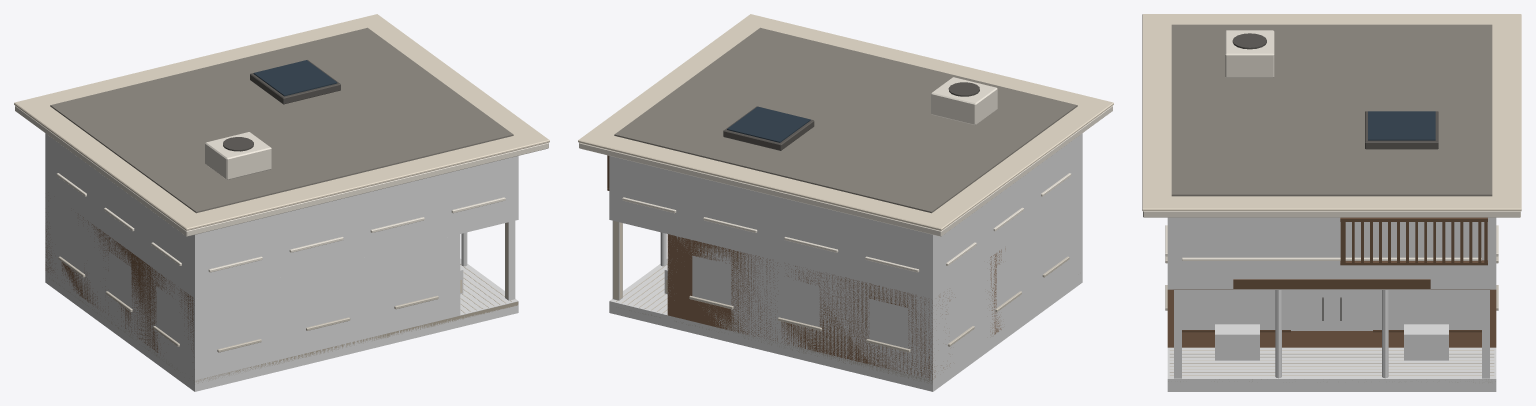
3 views of the same model, side by side, from view 1: azimuth 30°, elevation 25°; view 2: azimuth 150°, elevation 25°; view 3: azimuth 270°, elevation 25° (orthographic). The views are drawn at different scales.
Visible parts, largest first — view 1: T03_body, col_ground, col_upper, col_floor, col_post_-4; view 2: T03_body, col_ground, col_upper, col_floor; view 3: T03_body, col_upper, col_floor, col_ground, col_planter_+2, col_planter_-2, col_post_+4, col_post_-4, col_steel_+1, col_steel_-1.
Boxes of the visible parts, bbox=[...] form: T03_body: bbox=[14, 14, 549, 383]; col_ground: bbox=[45, 189, 460, 379]; col_upper: bbox=[45, 133, 518, 298]; col_floor: bbox=[45, 258, 518, 391]; col_post_-4: bbox=[505, 220, 515, 300]; T03_body: bbox=[578, 14, 1113, 383]; col_ground: bbox=[667, 189, 1082, 379]; col_upper: bbox=[609, 133, 1082, 298]; col_floor: bbox=[609, 258, 1082, 391]; T03_body: bbox=[1142, 14, 1521, 382]; col_upper: bbox=[1167, 217, 1496, 289]; col_floor: bbox=[1167, 347, 1496, 391]; col_ground: bbox=[1182, 290, 1481, 330]; col_planter_+2: bbox=[1404, 324, 1448, 360]; col_planter_-2: bbox=[1215, 324, 1259, 360]; col_post_+4: bbox=[1482, 290, 1489, 378]; col_post_-4: bbox=[1174, 290, 1181, 378]; col_steel_+1: bbox=[1382, 290, 1388, 378]; col_steel_-1: bbox=[1275, 290, 1281, 378].
Bounding box in the file's own units: 11.24 × 5.94 × 9.24.
